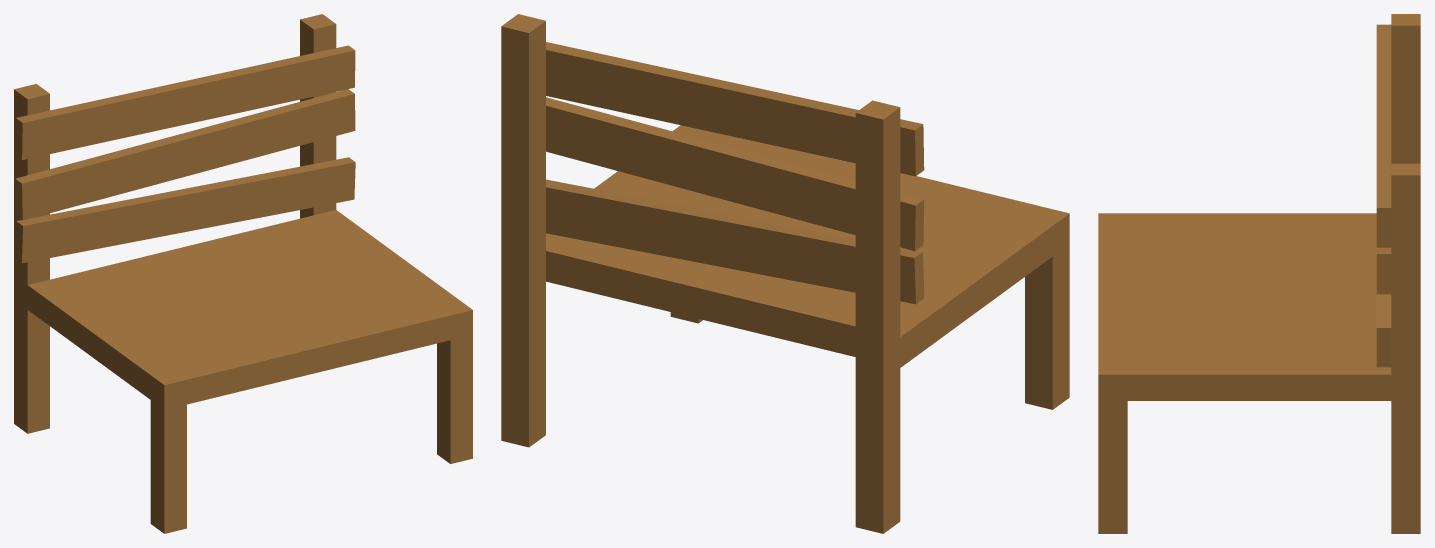
Rendered from egypt-egypt-market-table-short.glb.
3 views of the same model, side by side, from view 1: azimuth 30°, elevation 25°; view 2: azimuth 150°, elevation 25°; view 3: azimuth 270°, elevation 25° (orthographic). The views are drawn at different scales.
Visible parts, largest first — view 1: egypt-market-table-short; view 2: egypt-market-table-short; view 3: egypt-market-table-short.
Boxes of the visible parts, <box> form: egypt-market-table-short: <box>14,14,472,533</box>; egypt-market-table-short: <box>501,14,1069,533</box>; egypt-market-table-short: <box>1098,14,1420,533</box>.
Bounding box in the file's own units: 1.41 × 1.35 × 1.1.
